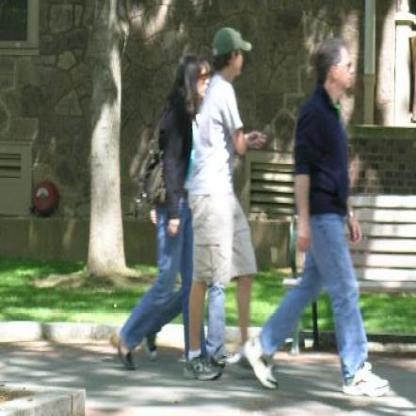person: (259, 36, 388, 394), (192, 23, 254, 378)
